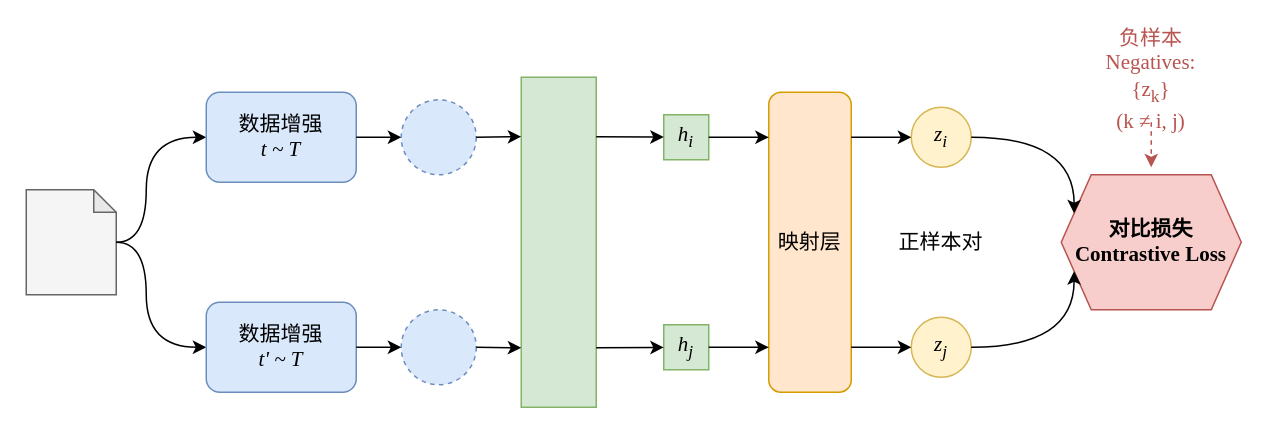
Image size: 1268x434. Some labels were removed from this diagram. The shapes that lost their labels are listed below. From the top down, each one's centre as x and y in pixels, then its label:
(438,136): x i
(70,241): 输入 Input x
(558,241): 编码器
(438,346): x j
